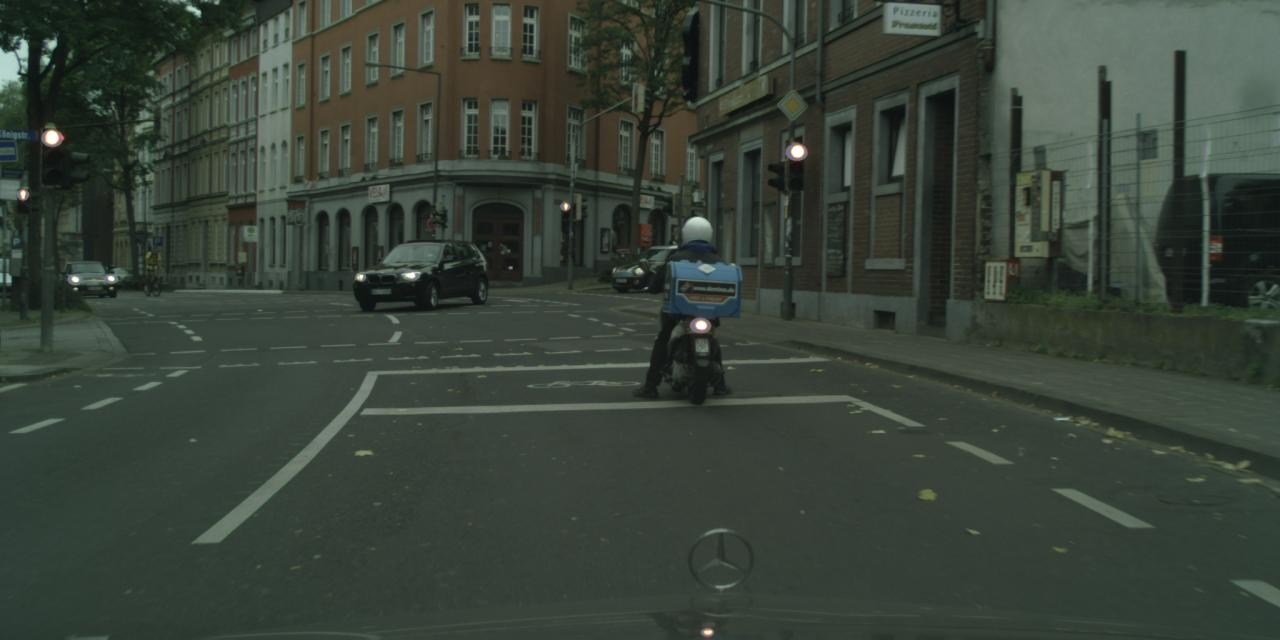ped: (656, 216, 730, 397), (145, 246, 161, 286), (666, 232, 680, 270)
